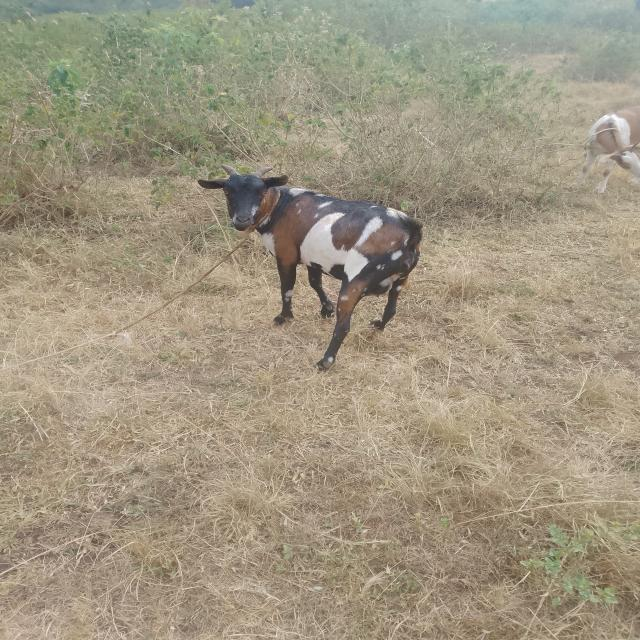goat: (152, 143, 460, 401)
